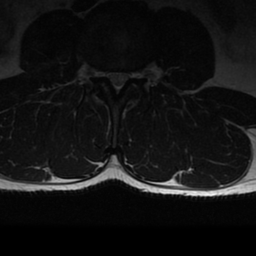CCS_normal: (114, 66, 121, 99)
LFS_stenosis: (128, 65, 136, 83)
LLS_stenosis: (121, 65, 127, 88)
RFS_stenosis: (98, 63, 106, 85)
RLS_stenosis: (106, 66, 114, 88)
